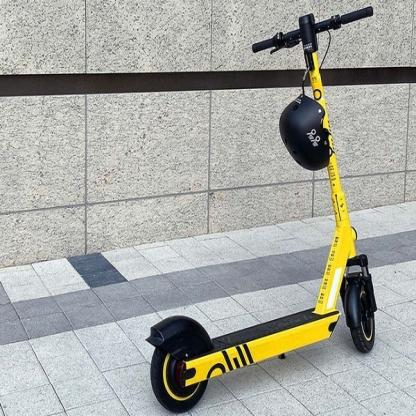kickboard: (146, 8, 377, 415)
